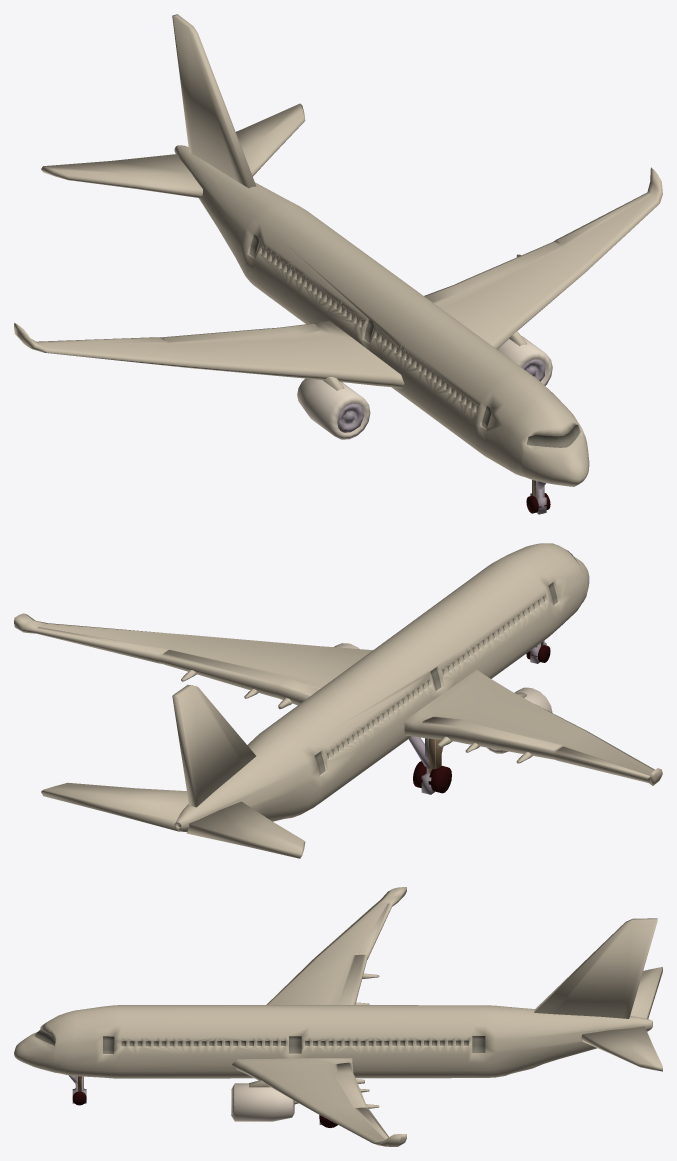
The picture shows the model from 3 angles, top to bottom: view 1: azimuth 30°, elevation 25°; view 2: azimuth 150°, elevation 25°; view 3: azimuth 270°, elevation 25°; orthographic projection. The views are drawn at different scales.
Parts seen in each view (by area): view 1: A_AirPlane1; view 2: A_AirPlane1; view 3: A_AirPlane1.
Part boxes in pixels (x1,y1,x2,y2): A_AirPlane1: (14, 14, 662, 514); A_AirPlane1: (14, 543, 662, 858); A_AirPlane1: (14, 887, 662, 1146).
Size of what is drawn, in the model's own units: 35.86 by 12.43 by 39.74.
Materials: 1 (1 with a texture image).
